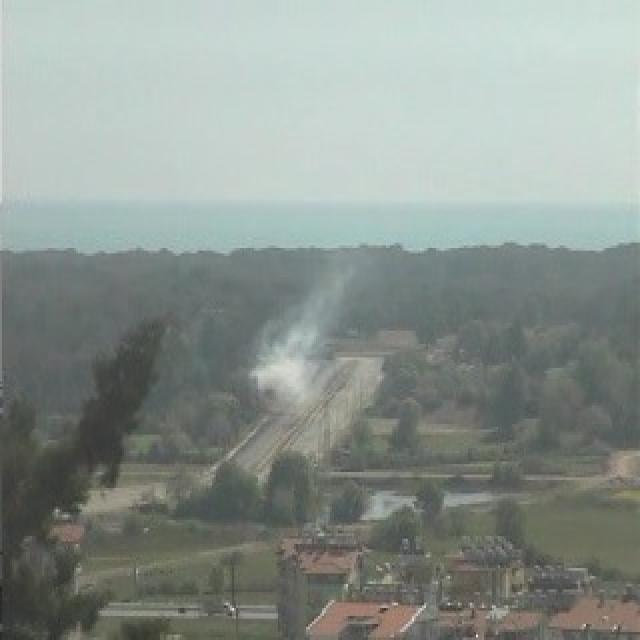Smoke: (248, 267, 356, 403)
